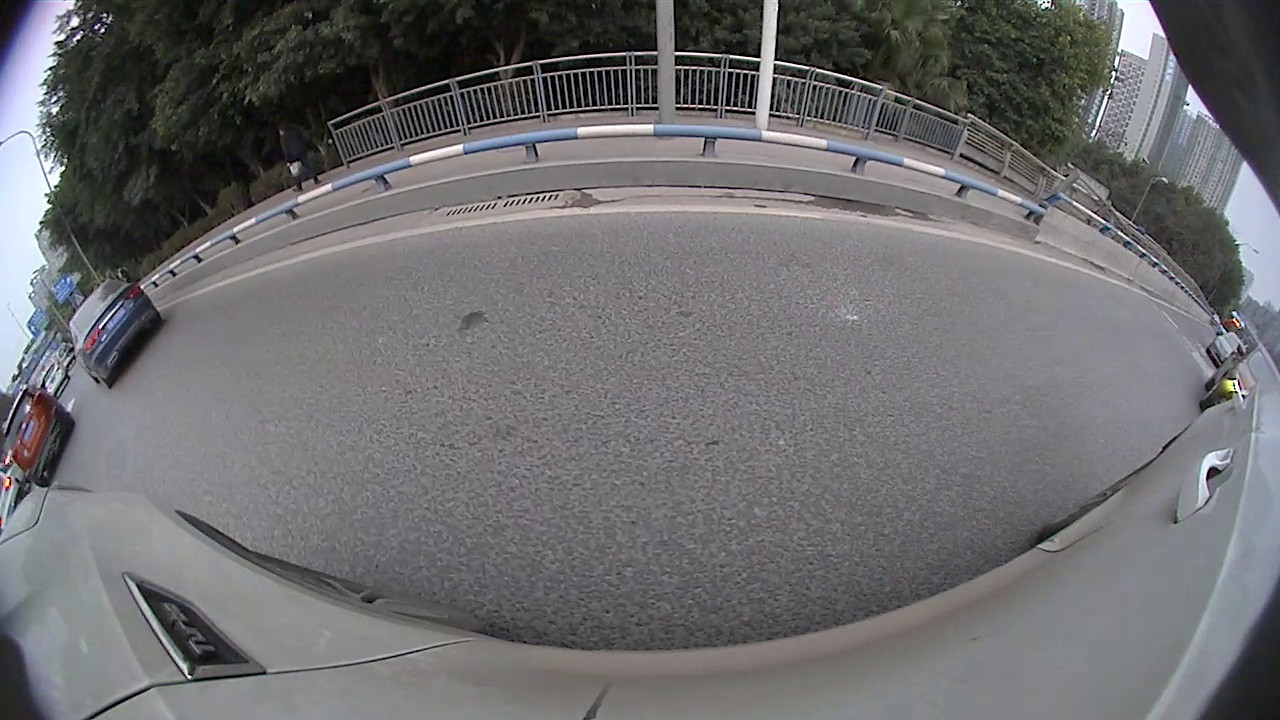car: (70, 277, 164, 390), (1, 383, 75, 488), (1199, 342, 1276, 414), (0, 453, 33, 533), (1209, 330, 1249, 370), (34, 360, 68, 394), (51, 339, 79, 368)
front: (1194, 389, 1222, 413)
person: (276, 123, 318, 193)
rear: (147, 310, 167, 335), (58, 415, 79, 435), (99, 368, 117, 389), (1202, 371, 1220, 391), (31, 473, 50, 490)
